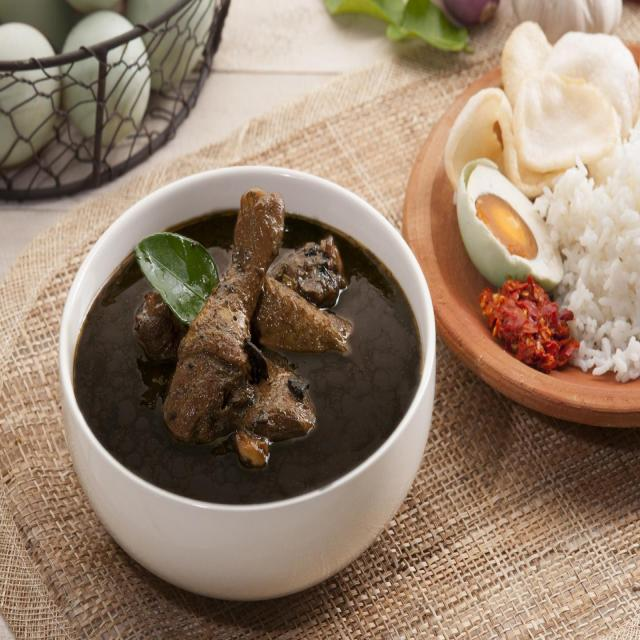Rawon: (84, 210, 406, 498)
